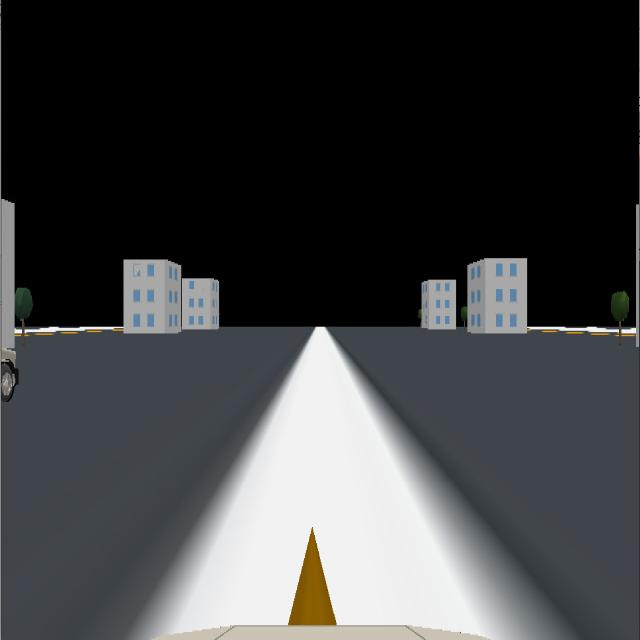cone: (287, 524, 339, 628)
